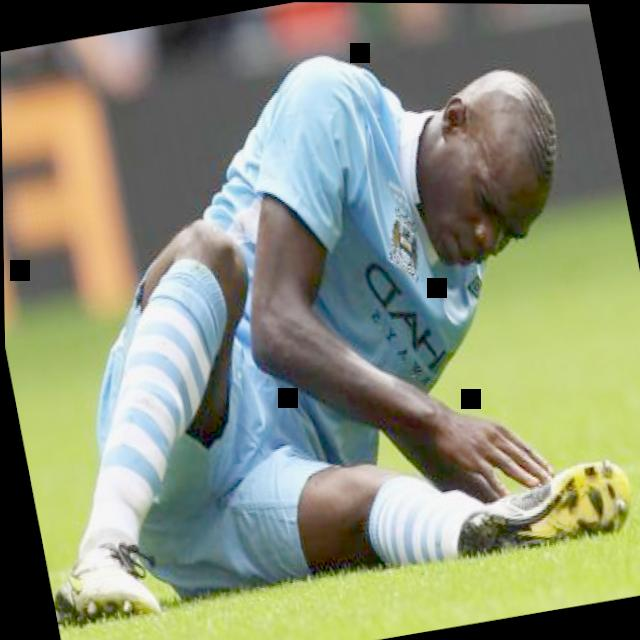Fall-Detected: (0, 0, 640, 635)
